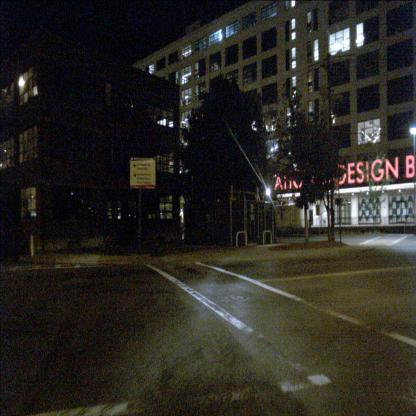cone: (28, 234, 36, 266)
